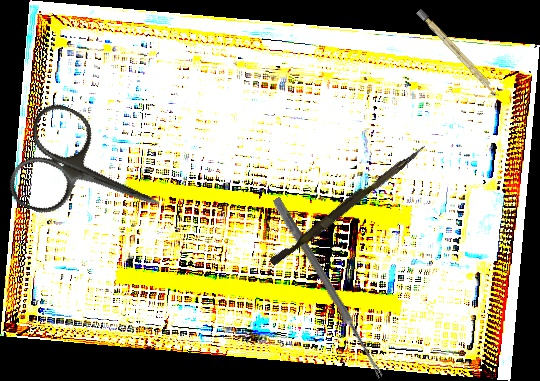Iris Scissors: (1, 97, 181, 255)
Pusher: (269, 139, 427, 270)
Scalpel Handle: (416, 8, 501, 99)
Surgical Spoon: (270, 196, 387, 380)
